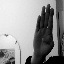b: (31, 1, 56, 61)
